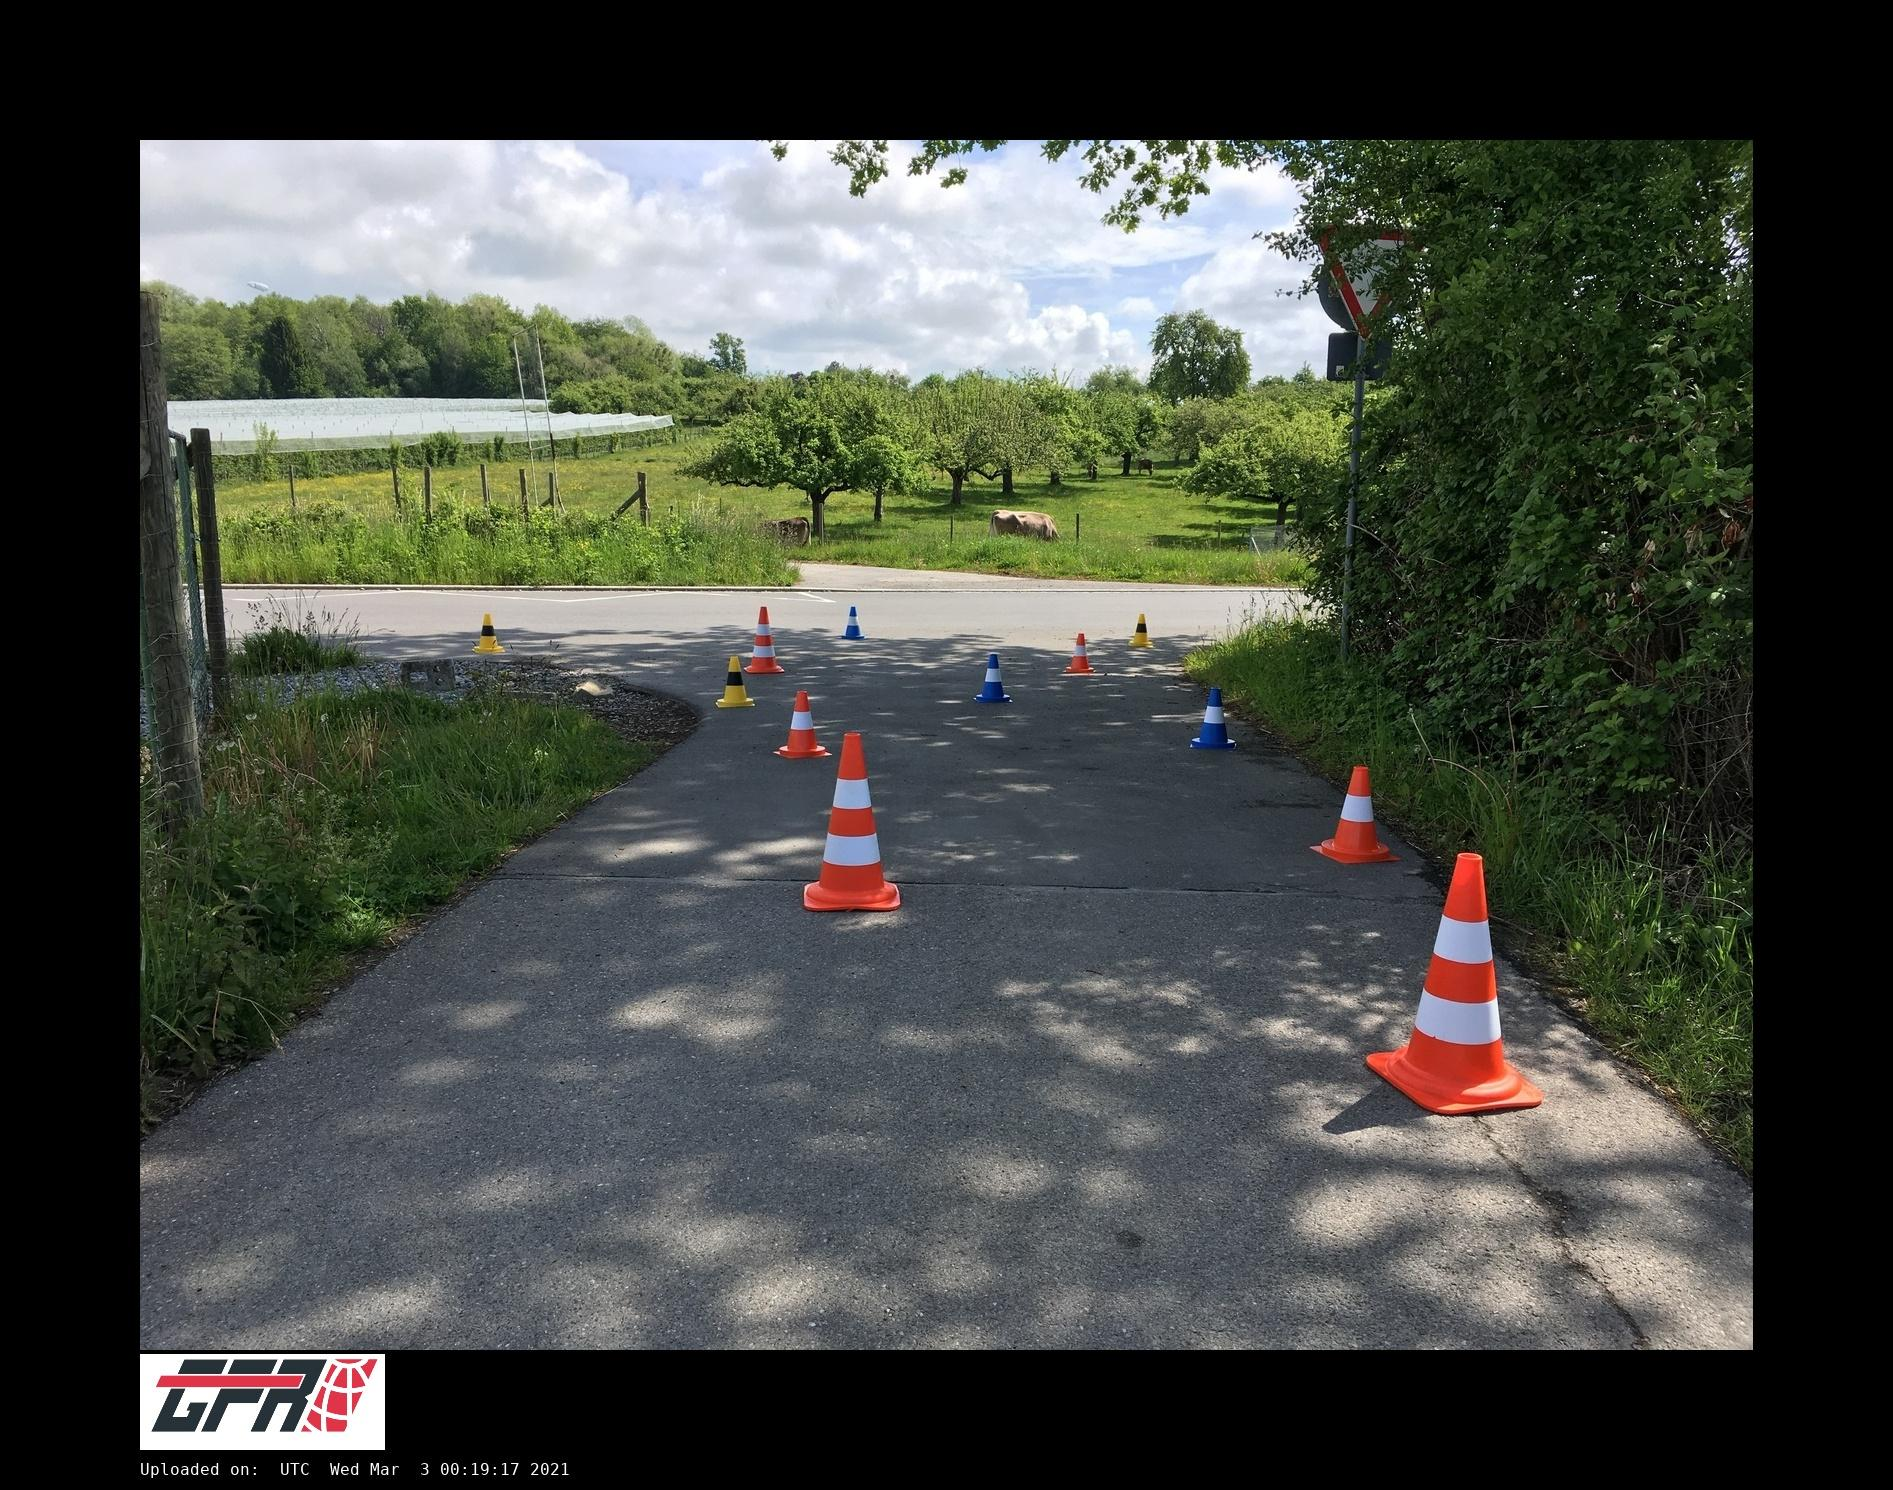blue_cone: (1189, 688, 1235, 750), (973, 654, 1013, 704), (839, 607, 865, 641)
large_orange_cone: (1366, 853, 1543, 1114), (807, 733, 900, 906), (744, 607, 785, 674)
orange_cone: (1311, 765, 1401, 863), (779, 688, 827, 756), (1063, 633, 1096, 674)
yellow_cone: (716, 656, 754, 708), (476, 610, 504, 654), (1128, 613, 1152, 647)
